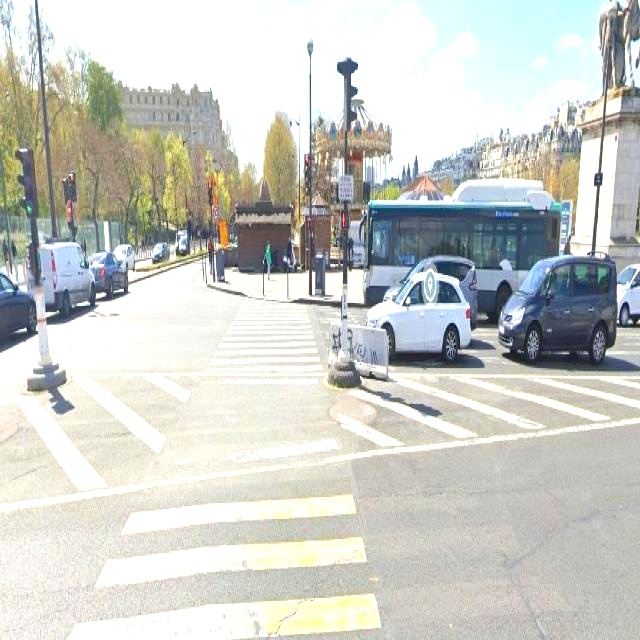bus: (346, 173, 570, 331)
car: (499, 250, 626, 381), (351, 270, 481, 391)
